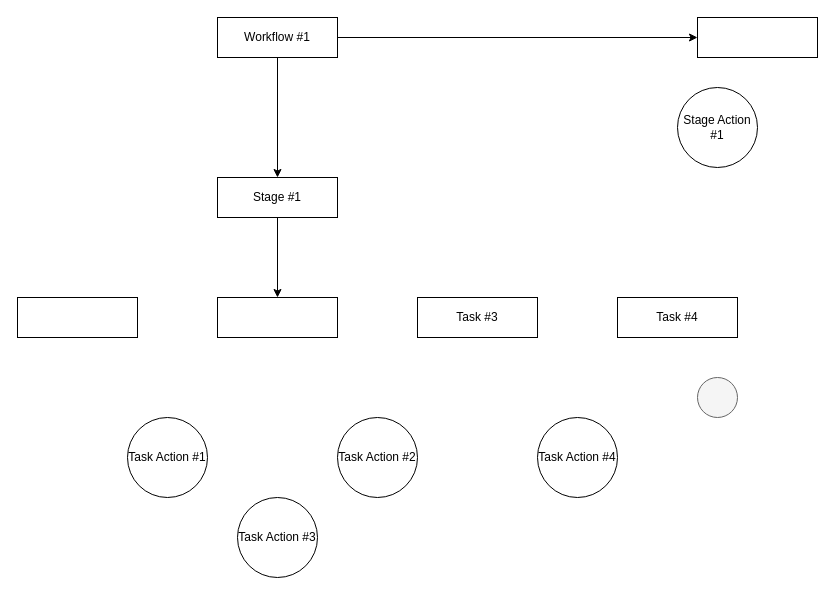
Some shapes in this 835 by 595 pixel diagram are drawn without their labels. Each missing label, with the box of its shape:
End: (696, 376, 738, 418)
Stage #2: (696, 16, 818, 58)
Task #1: (16, 296, 138, 338)
Task #2: (216, 296, 338, 338)
